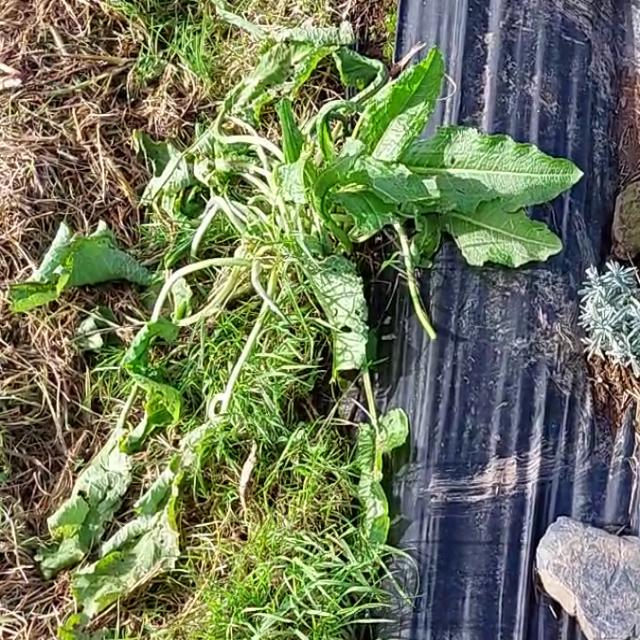organic waste: (5, 22, 572, 613)
